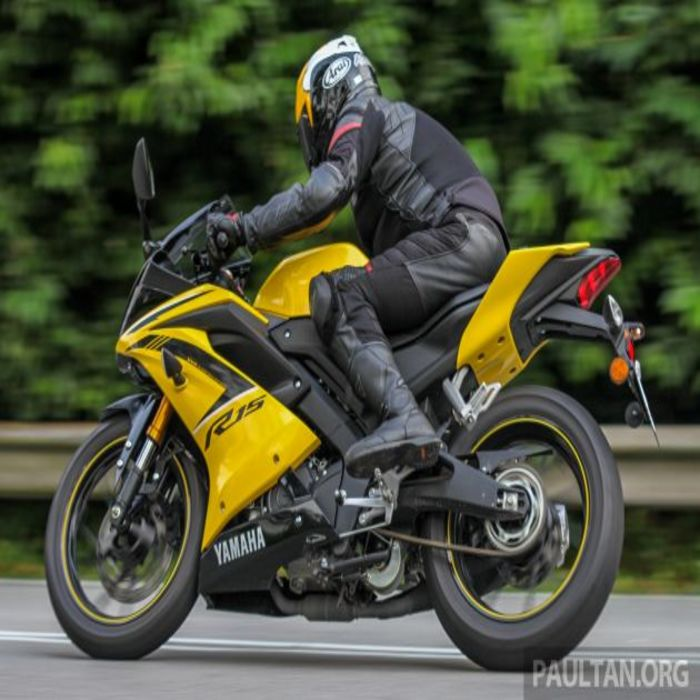h: (292, 33, 380, 177)
